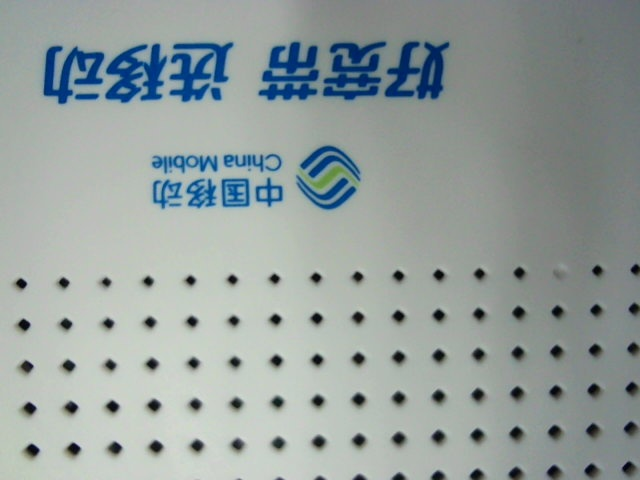AA_ChinaMobile: (37, 33, 452, 216)
